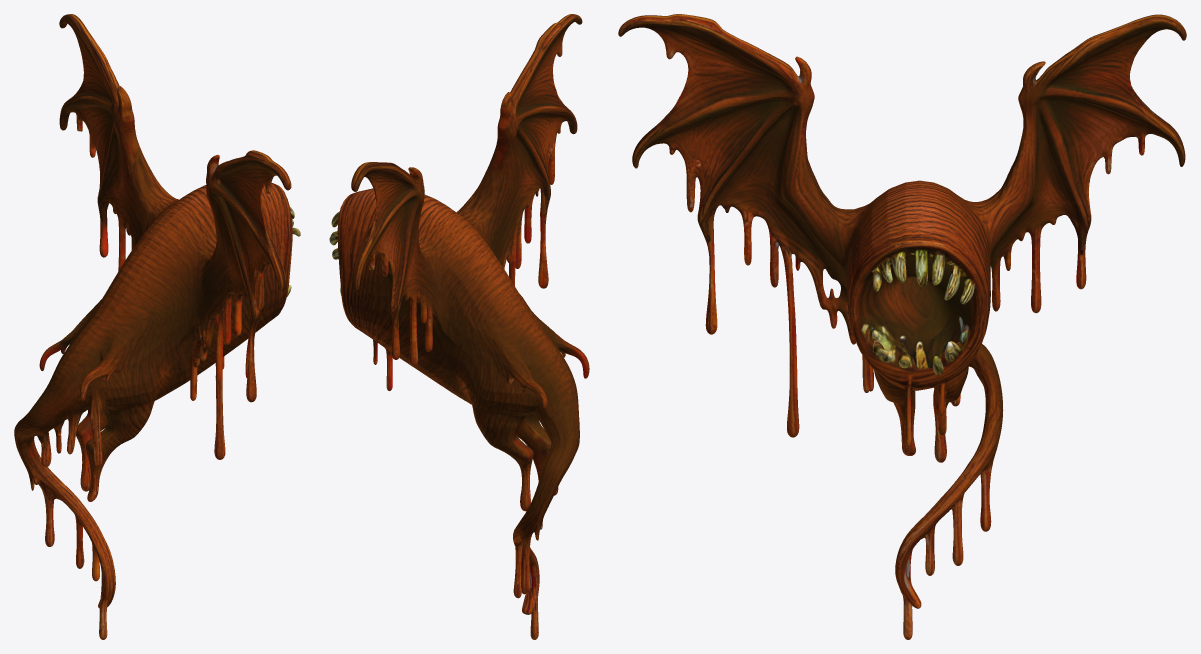
Rendered from Crimson Plague Bat.glb.
The picture shows the model from 3 angles, left to right: view 1: azimuth 30°, elevation 25°; view 2: azimuth 150°, elevation 25°; view 3: azimuth 270°, elevation 25°; orthographic projection. The views are drawn at different scales.
Parts seen in each view (by area): view 1: tripo_node_677a5710-5d83-47ec-830a-d985b3937232; view 2: tripo_node_677a5710-5d83-47ec-830a-d985b3937232; view 3: tripo_node_677a5710-5d83-47ec-830a-d985b3937232.
Boxes of the visible parts, <box> form: tripo_node_677a5710-5d83-47ec-830a-d985b3937232: <box>14,14,300,639</box>; tripo_node_677a5710-5d83-47ec-830a-d985b3937232: <box>329,14,589,639</box>; tripo_node_677a5710-5d83-47ec-830a-d985b3937232: <box>618,14,1186,639</box>.
Bounding box in the file's own units: 0.4921 × 1 × 0.7714.
Materials: 1 (1 with a texture image).
